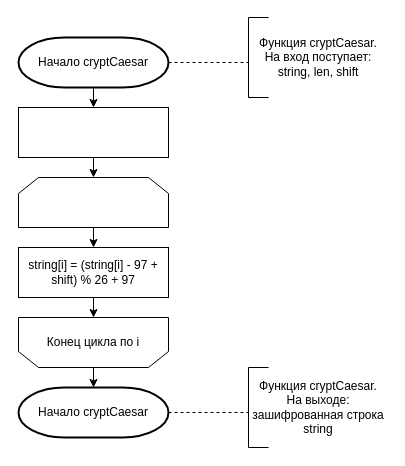
Image size: 405x466. Some labels were removed from this diagram. The centre of each missing label's shape, as x and y in pixels:
"i := 0" belongs at point 93,132.
"Цикл 0 < i < len" belongs at point 93,202.
